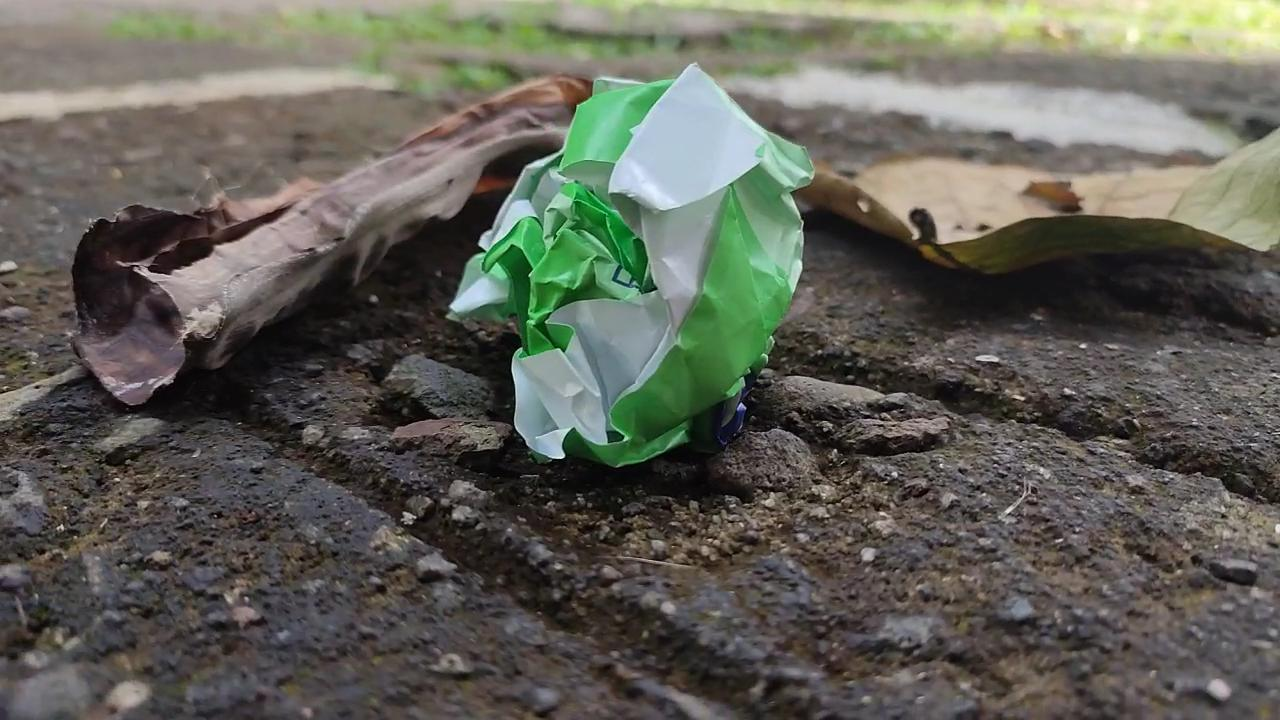Paper: (452, 49, 814, 480)
